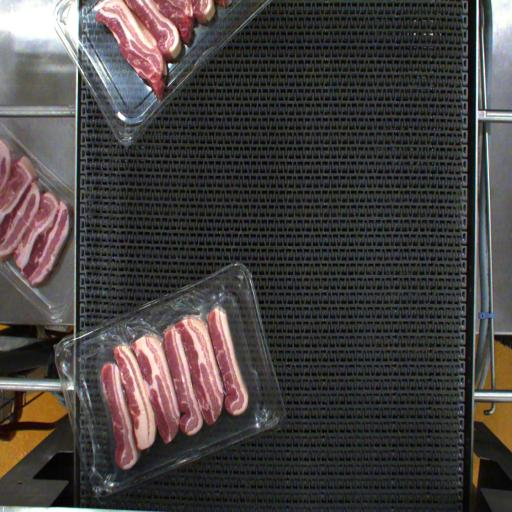unsealed: (80, 300, 271, 449)
